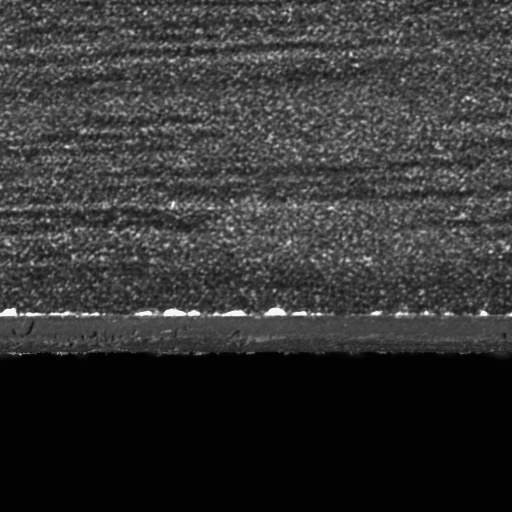huashang: (264, 307, 309, 318), (164, 307, 202, 317), (212, 308, 249, 318), (1, 306, 20, 319)
